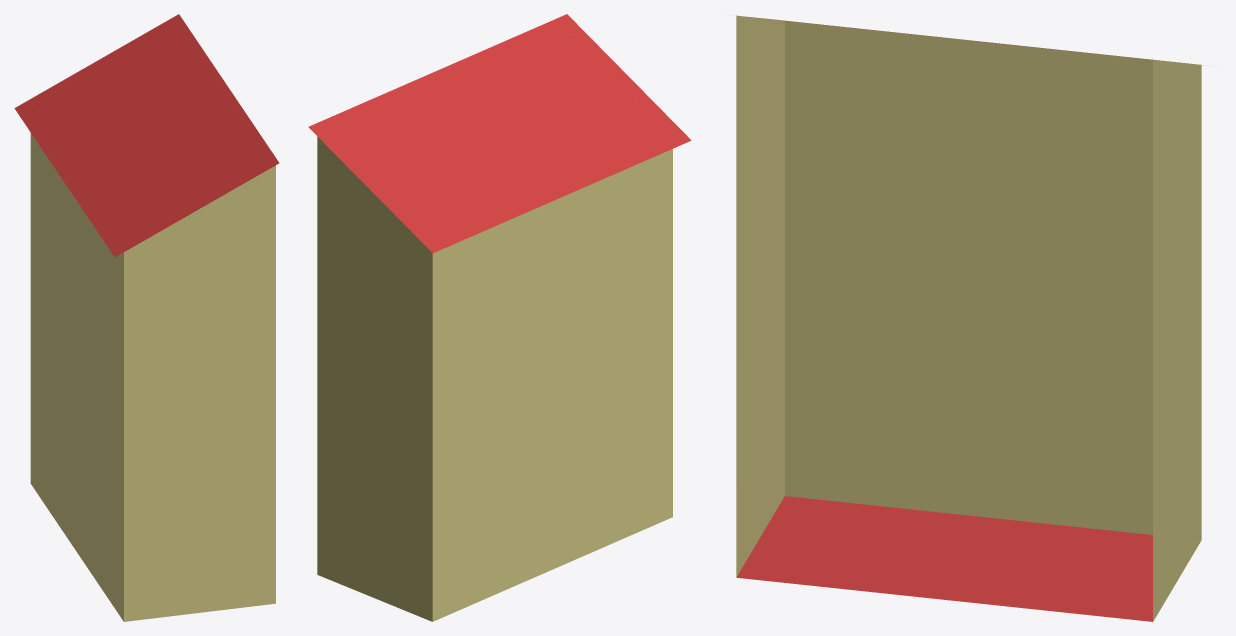
3 renders of one model, left to right at view 1: azimuth 30°, elevation 25°; view 2: azimuth 150°, elevation 25°; view 3: azimuth 270°, elevation 25°, orthographic. The views are drawn at different scales.
Size of the model in its own units: 4.87 by 7.58 by 9.38.
